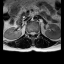CCS_normal: (32, 30, 33, 38)
LFS_normal: (36, 30, 38, 36)
LLS_normal: (33, 30, 36, 37)
RFS_normal: (28, 30, 30, 36)
RLS_normal: (30, 30, 32, 36)
